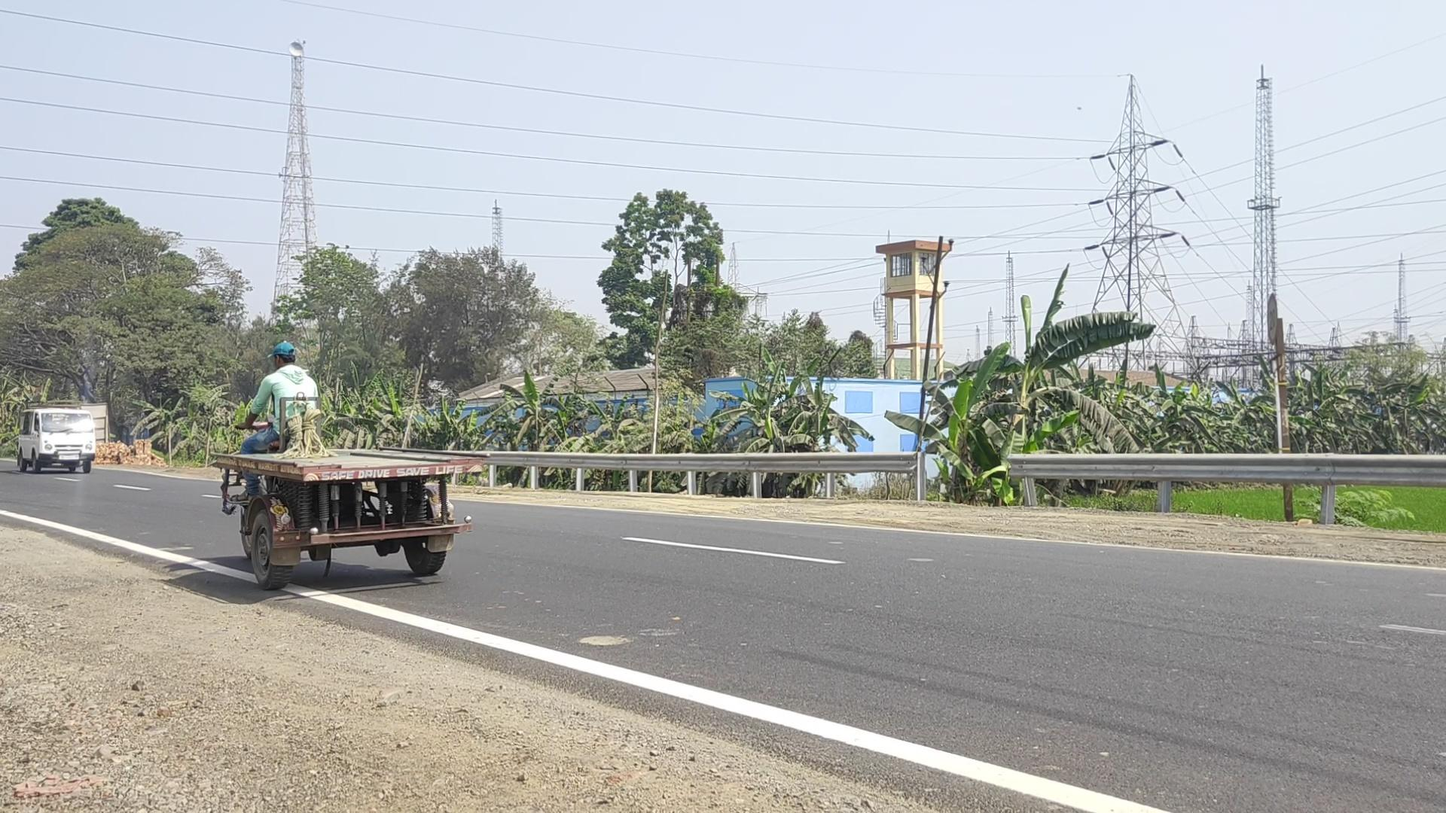van: (17, 401, 96, 474)
